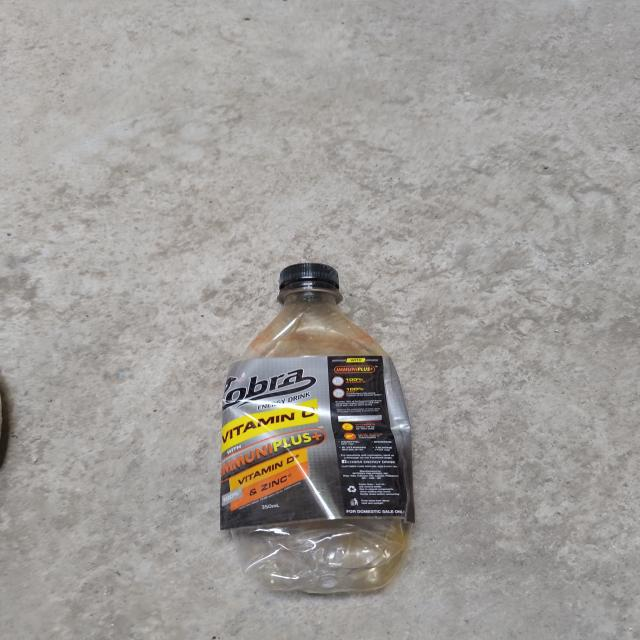Bottle: (220, 262, 415, 594)
